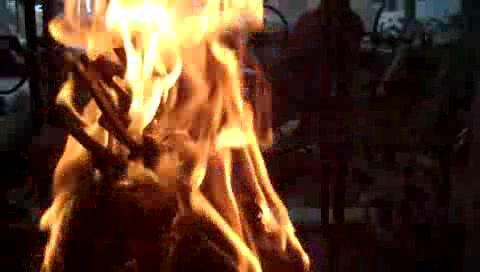fire: (41, 2, 286, 270)
